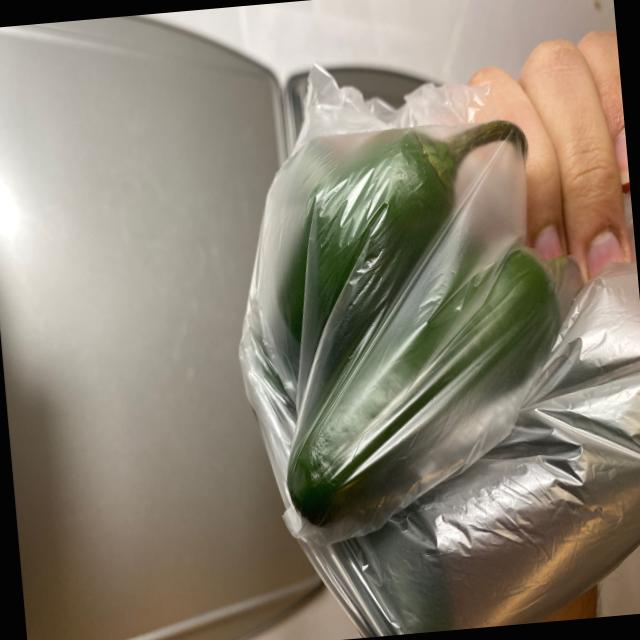chilli: (232, 20, 628, 638)
